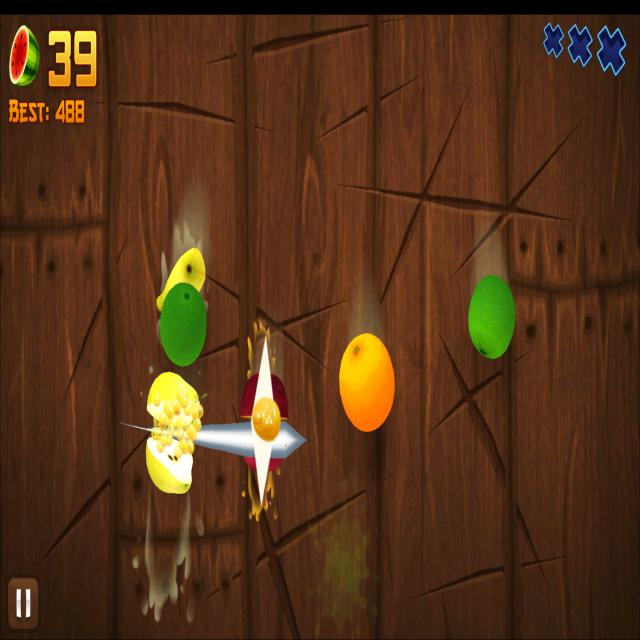fruit: (338, 330, 396, 436), (468, 273, 516, 361), (159, 282, 207, 367), (155, 247, 206, 313)
